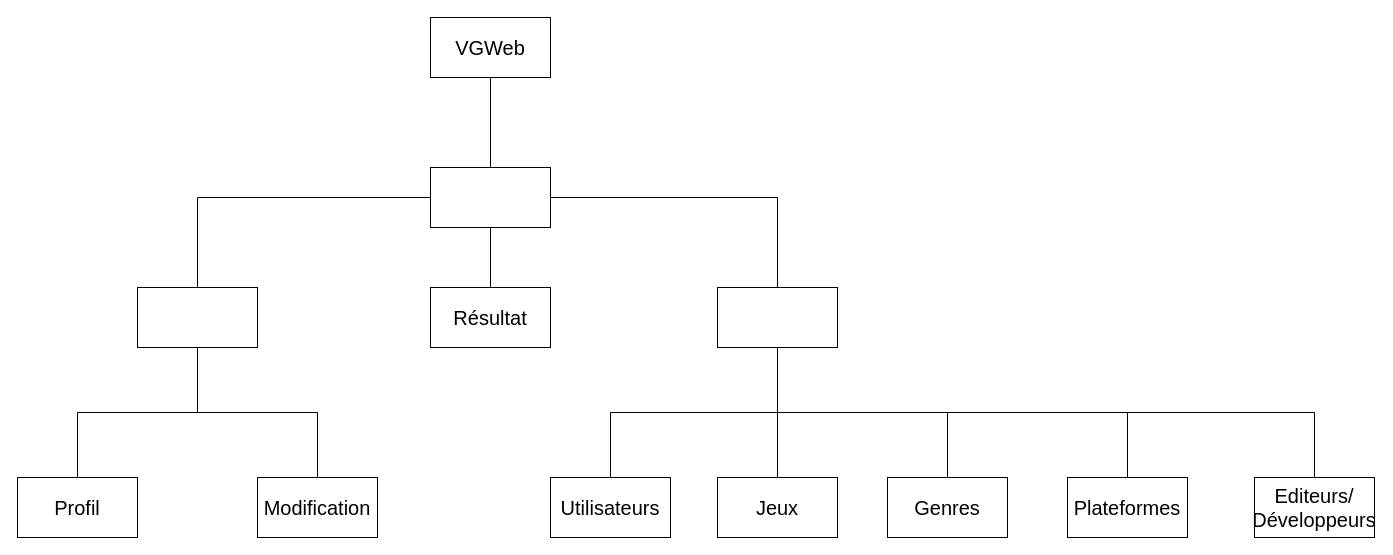
The diagram is 1393 pixels wide and 555 high, and some of its shapes have lost their labels. The shapes that lost their labels are listed below. From the top down, each one's centre as x and y in pixels, then its label:
the point at 490,197: Accueil
the point at 197,317: Utilisateur
the point at 777,317: Admin
